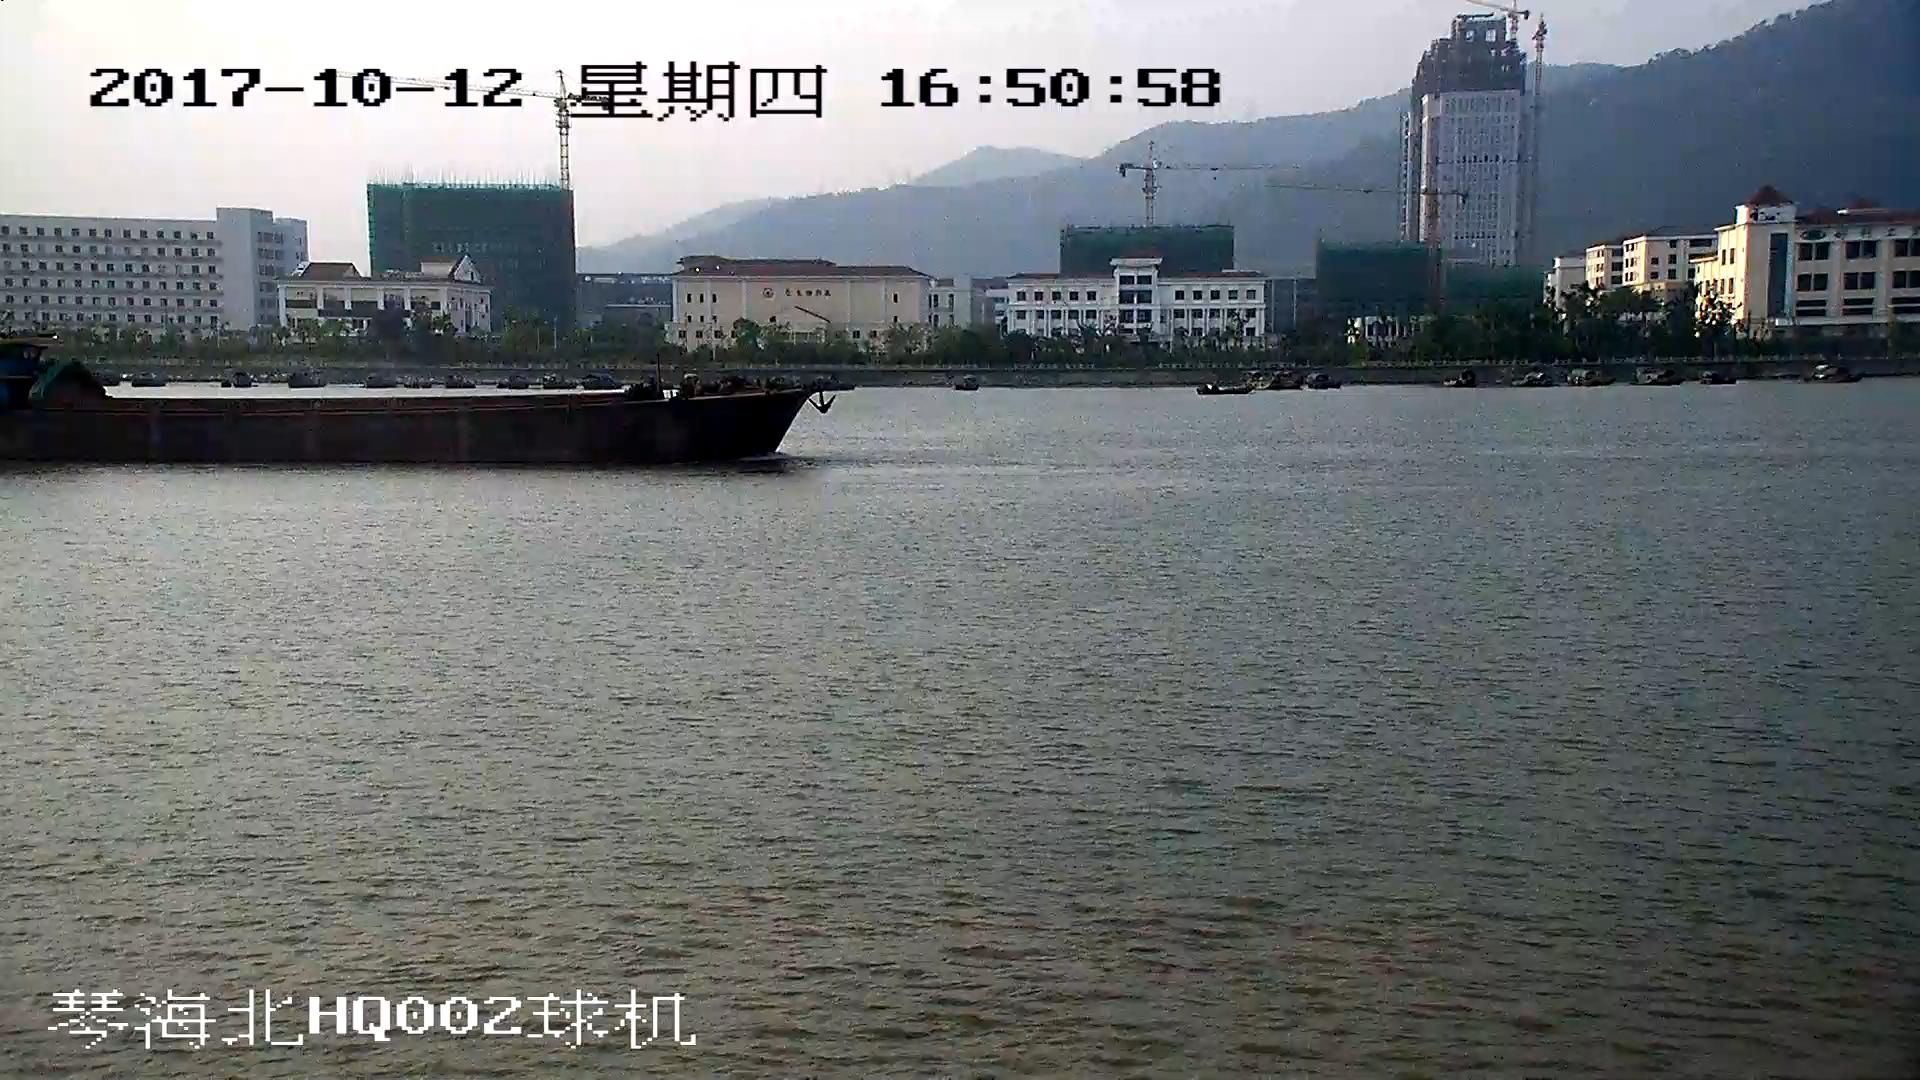bulk cargo carrier: (1, 358, 835, 465)
